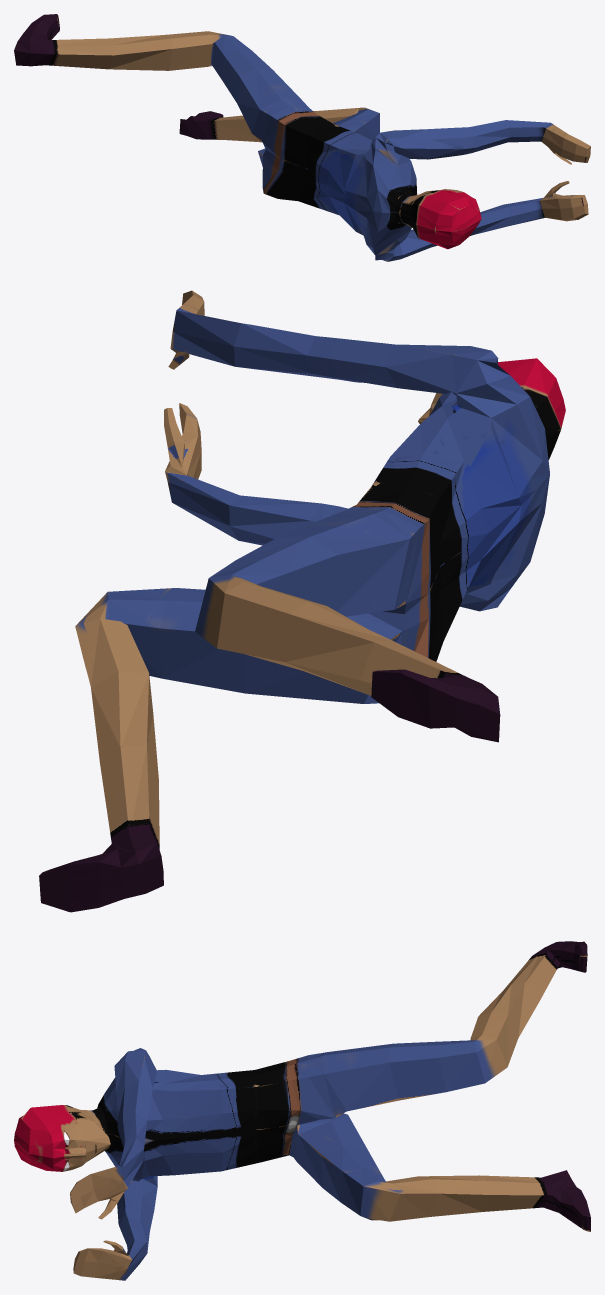
Rendered from mirrorman_000027.obj.
3 renders of one model, top to bottom at view 1: azimuth 30°, elevation 25°; view 2: azimuth 150°, elevation 25°; view 3: azimuth 270°, elevation 25°, orthographic. The views are drawn at different scales.
Visible parts, largest first — view 1: mirrorman_Cube.001_Material.001; view 2: mirrorman_Cube.001_Material.001; view 3: mirrorman_Cube.001_Material.001.
Boxes of the visible parts, box(x1,y1,x2,y2) form: mirrorman_Cube.001_Material.001: box(14, 14, 590, 261); mirrorman_Cube.001_Material.001: box(39, 290, 565, 912); mirrorman_Cube.001_Material.001: box(14, 941, 590, 1280).
Size of the model in its own units: 1.31 by 0.5444 by 1.51.
